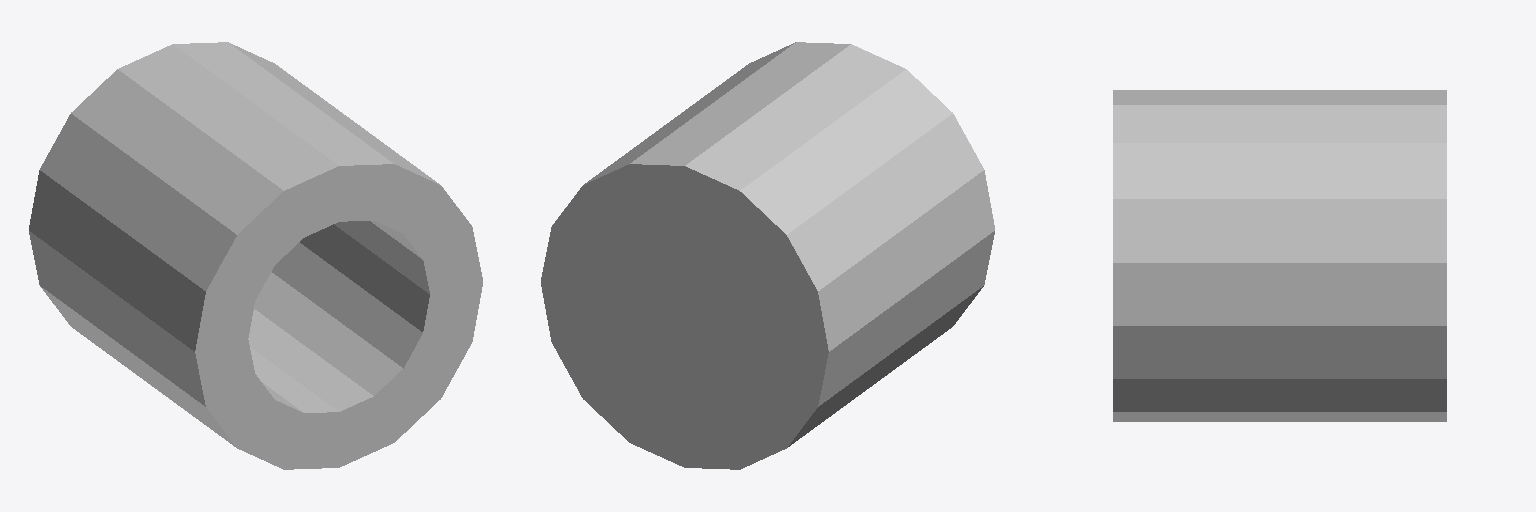
File: spotlight.obj
The picture shows the model from 3 angles: view 1: azimuth 30°, elevation 25°; view 2: azimuth 150°, elevation 25°; view 3: azimuth 270°, elevation 25°; orthographic projection.
Parts seen in each view (by area): view 1: cylinder1; view 2: cylinder1; view 3: cylinder1.
Boxes of the visible parts, box(x1,y1,x2,y2) form: cylinder1: box(29, 42, 482, 469); cylinder1: box(541, 42, 994, 469); cylinder1: box(1113, 90, 1446, 421).
Bounding box in the file's own units: 2 × 2 × 2.